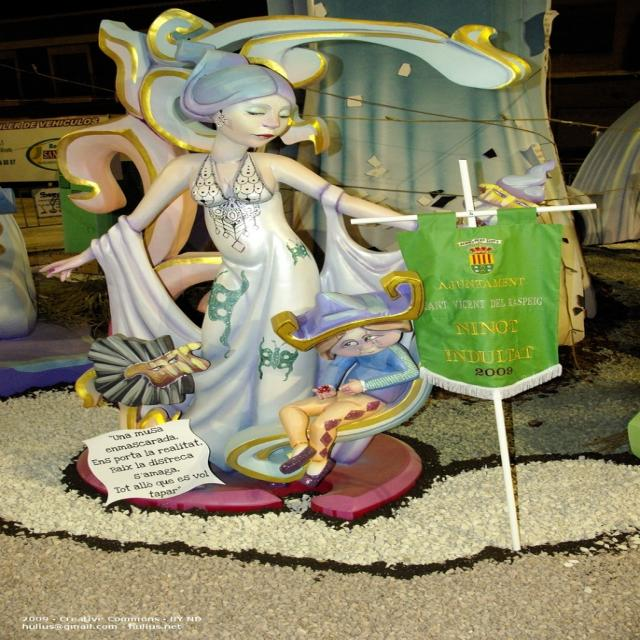Toy: (12, 30, 612, 522)
